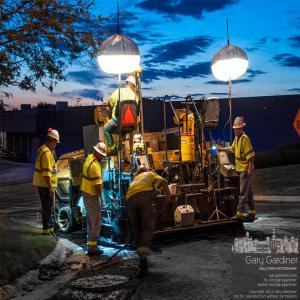white: (45, 129, 60, 151), (93, 142, 107, 164), (233, 118, 246, 139), (124, 76, 137, 92)
